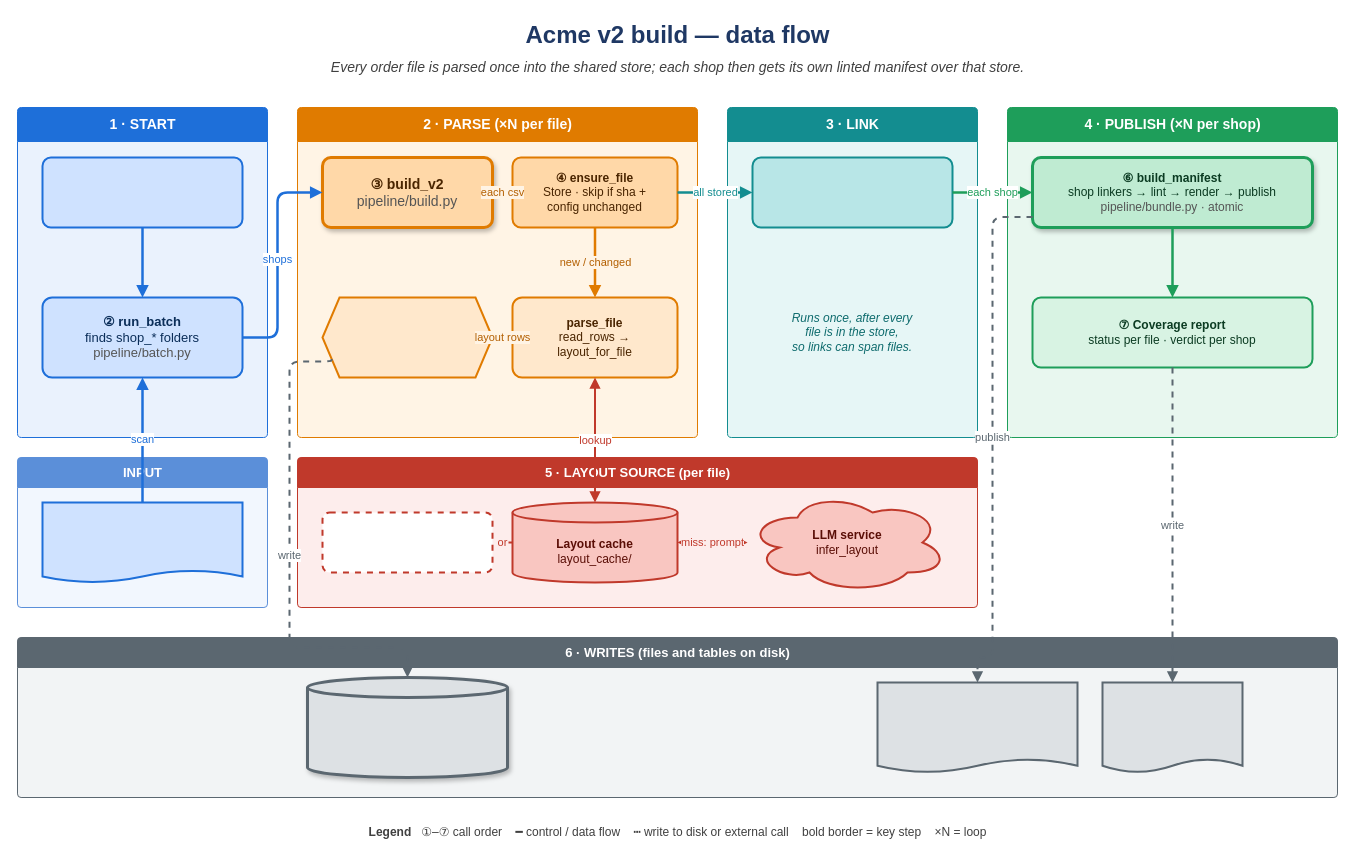
Some shapes in this 1355 by 864 pixel diagram are drawn without their labels. Here are the shapes that lost their labels. From the top down, the centre of each, then its label:
the point at 142,192: ① acme build --all --format v2 commands/cli.py
the point at 852,192: ⑤ cross-file linkers twin · duplicates links → orders.db
the point at 407,337: Parsers + store linkers rows, rules, links
the point at 142,542: Orders root shop_<ID>_*/*.csv
the point at 407,542: legacy parser keyword detector, no LLM
the point at 408,729: orders.db files · orders · items entities · links · findings
the point at 977,727: shop_<ID>/manifest.json index.md · shop.md + store items/
the point at 1172,727: _reports/<ts>/ coverage.json | md
